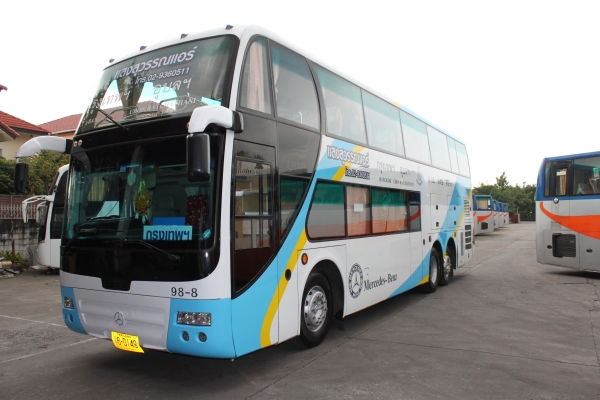bus: (59, 24, 473, 360)
